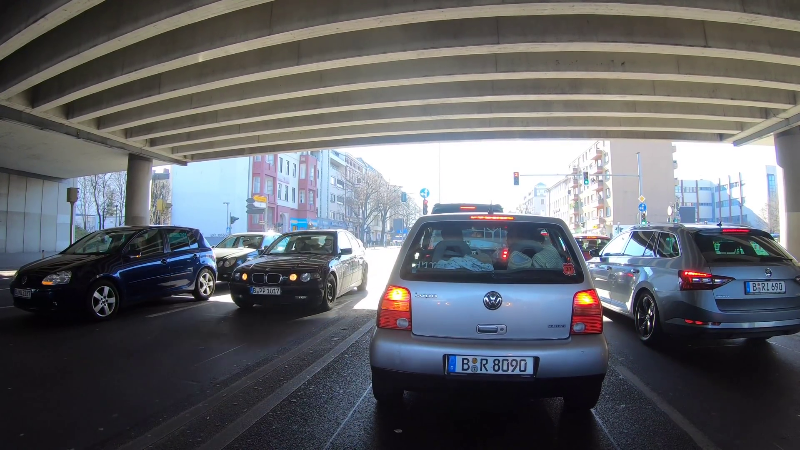Plate: (443, 352, 536, 377), (742, 280, 788, 294), (246, 286, 280, 296), (12, 287, 33, 301)
